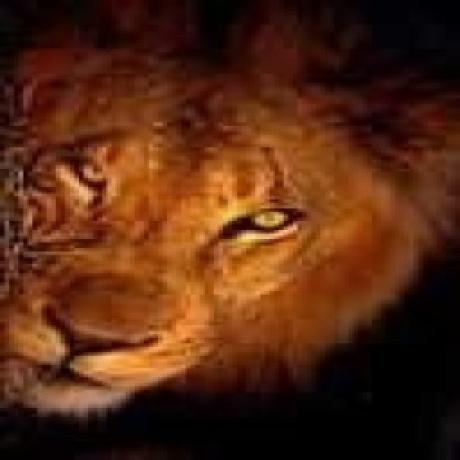Lion: (0, 0, 460, 417)
